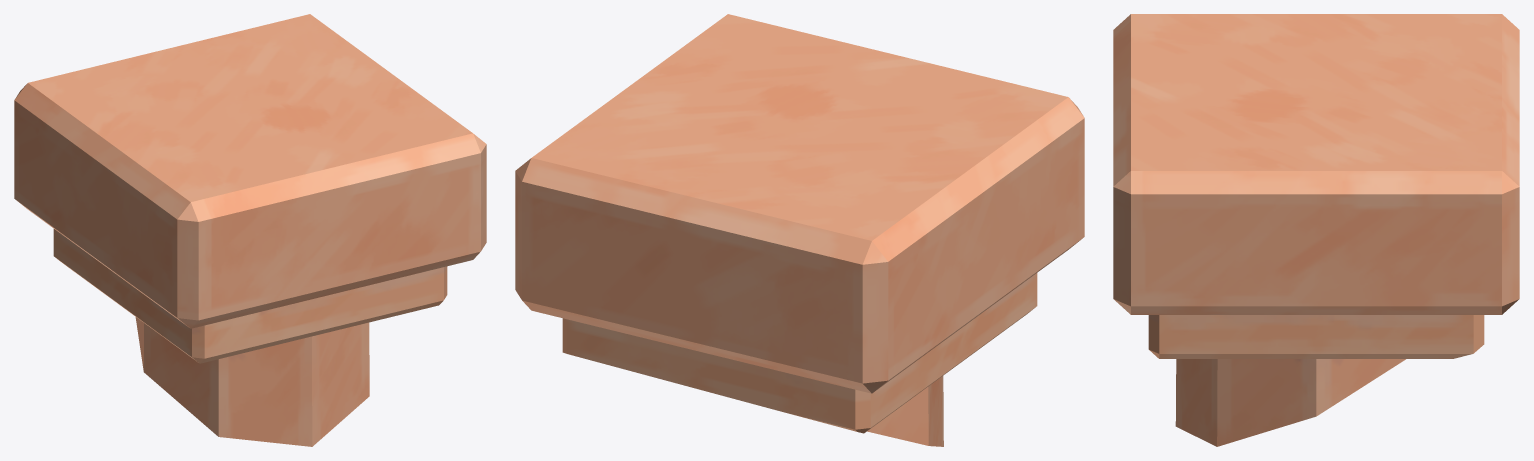
File: pillar_s01.fbx
3 renders of one model, left to right at view 1: azimuth 30°, elevation 25°; view 2: azimuth 150°, elevation 25°; view 3: azimuth 270°, elevation 25°, orthographic. The views are drawn at different scales.
Parts seen in each view (by area): view 1: pillar_s01; view 2: pillar_s01; view 3: pillar_s01.
Boxes of the visible parts, <box> form: pillar_s01: <box>14,14,486,446</box>; pillar_s01: <box>515,14,1084,446</box>; pillar_s01: <box>1113,14,1519,446</box>.
Size of the model in its own units: 2.3 by 2.09 by 2.3.
